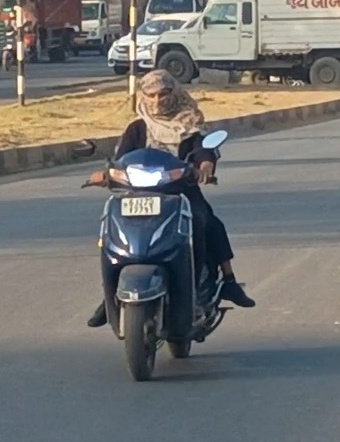BikeWithRider: (70, 61, 260, 388)
NoHelmet: (138, 64, 187, 116)
